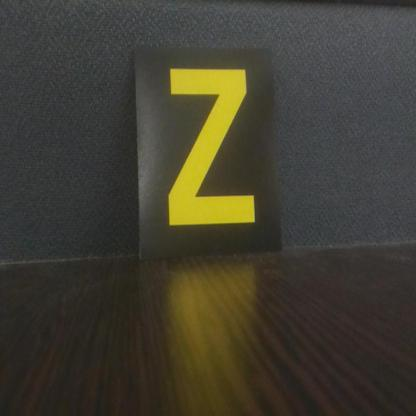z: (137, 46, 282, 254)
